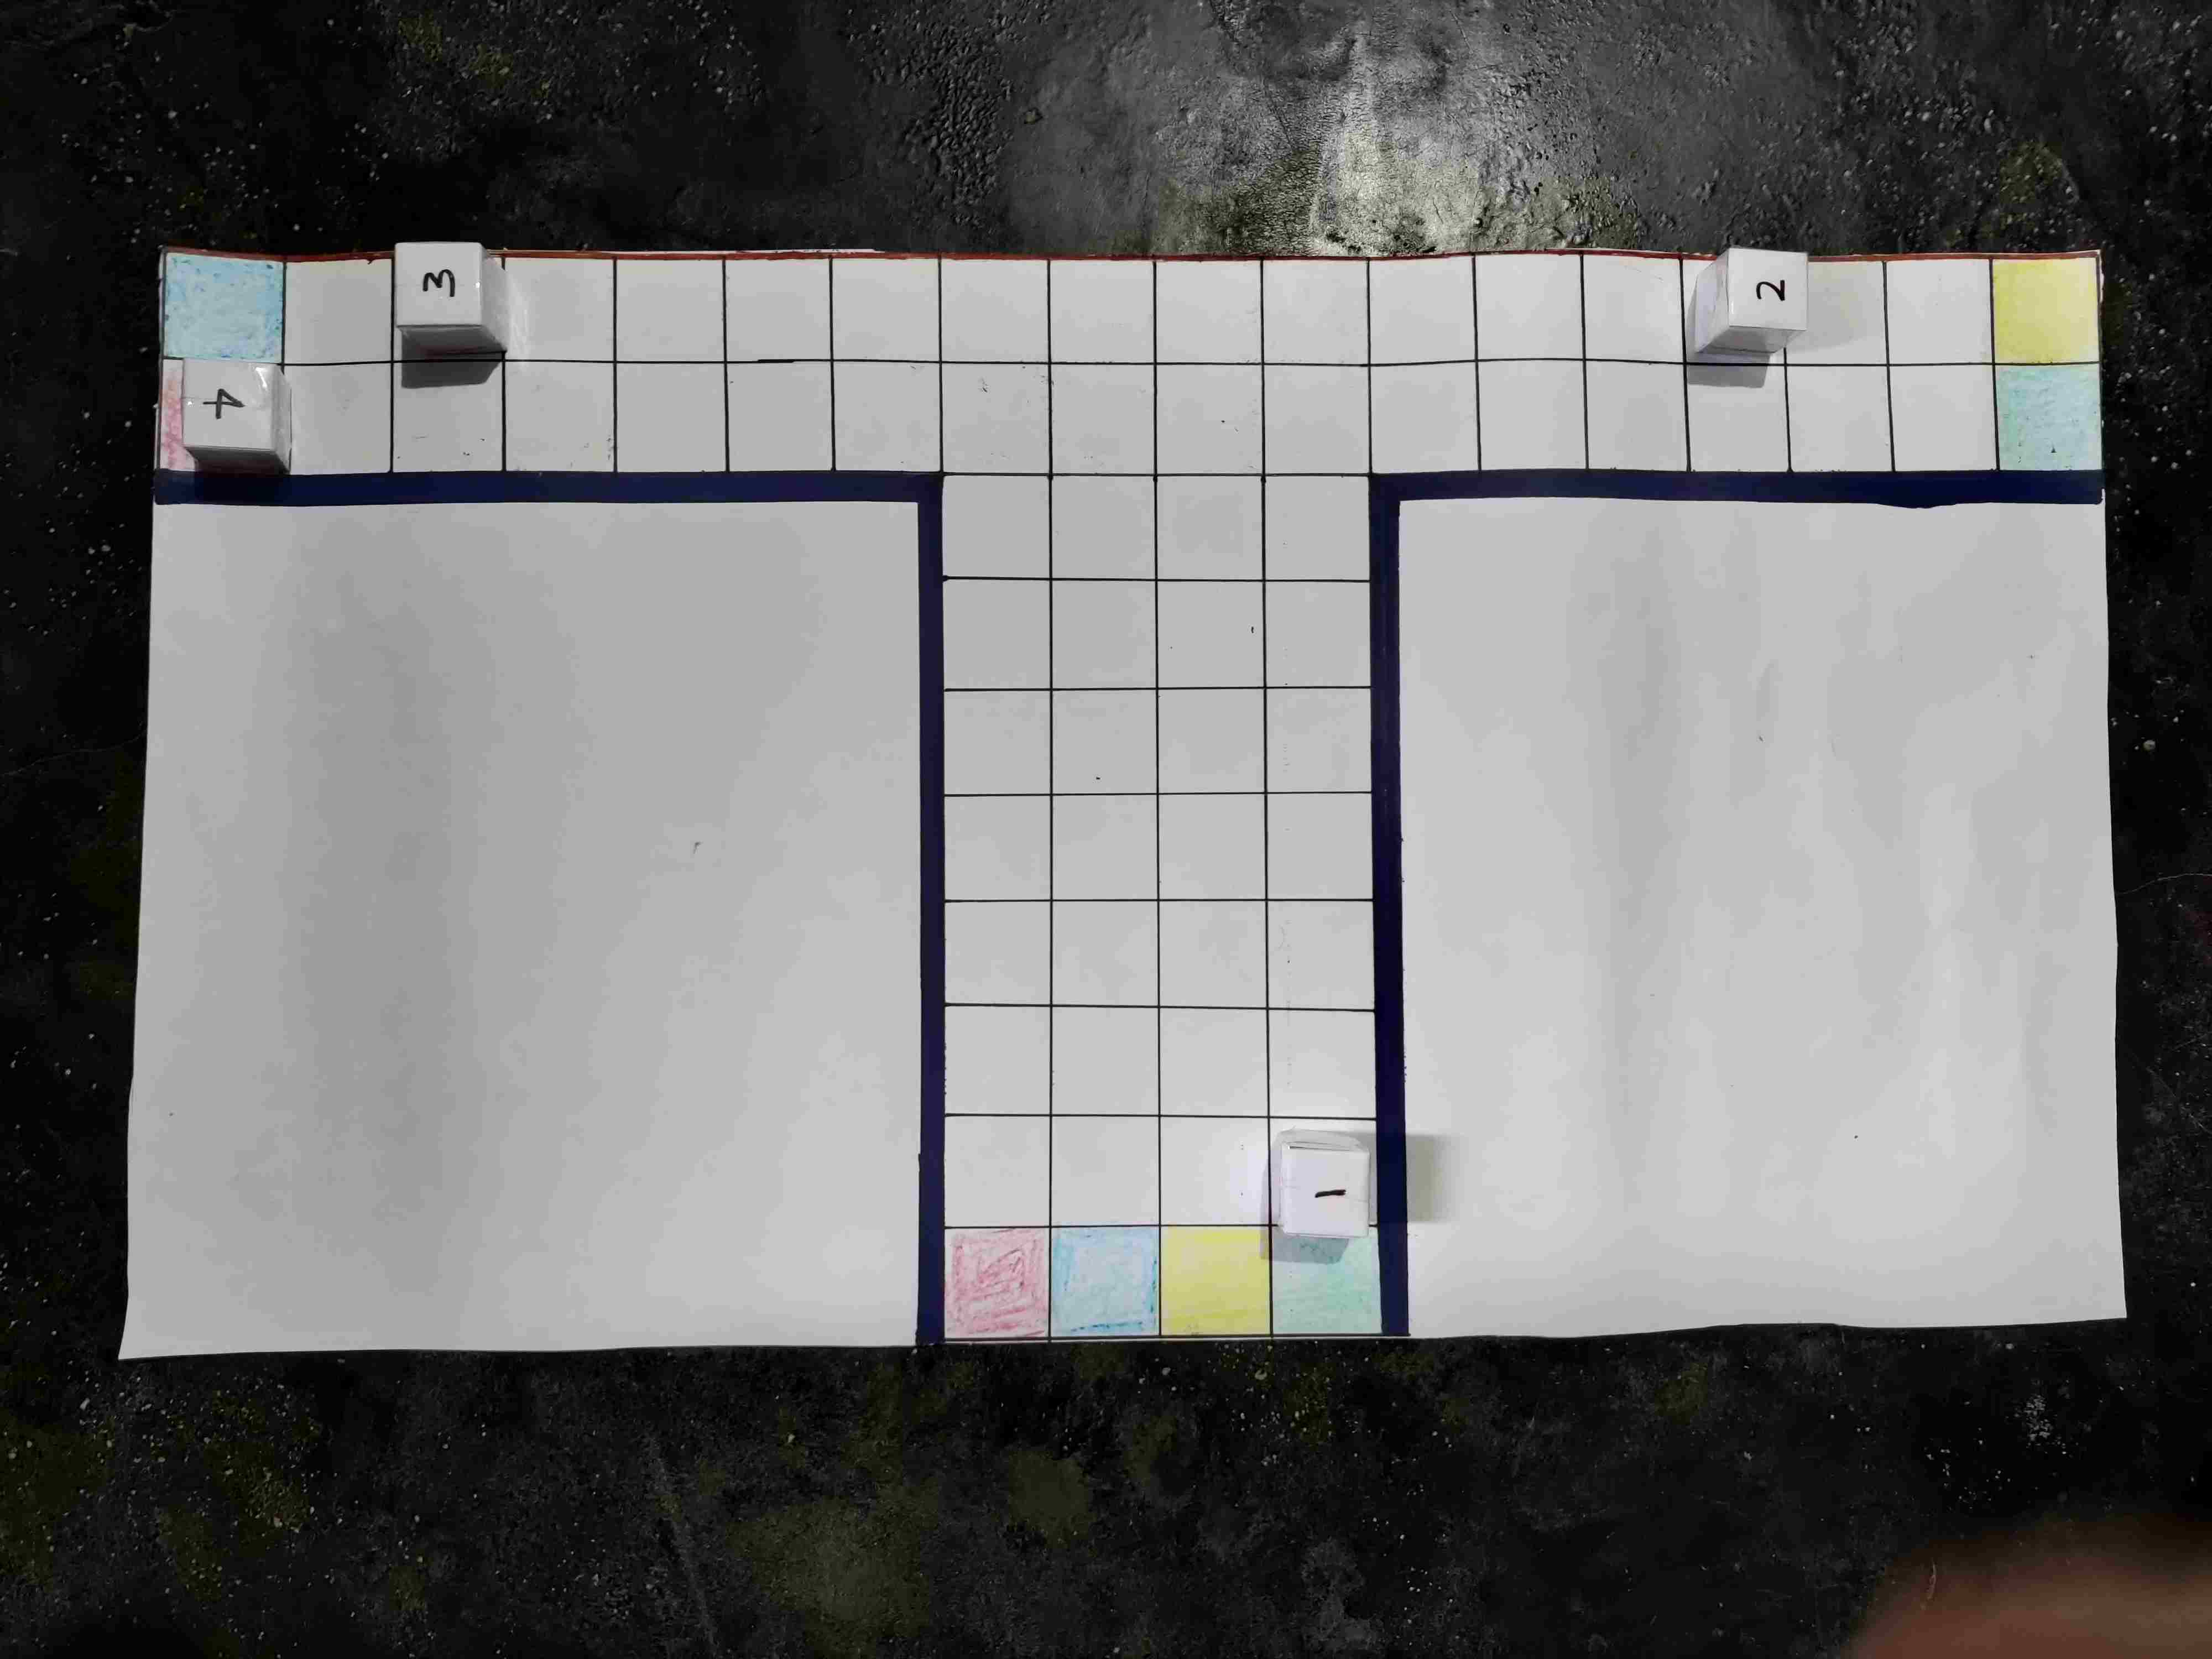arena: (216, 336, 2088, 1377)
bot: (930, 436, 1012, 521), (1054, 558, 1136, 636), (1252, 777, 1332, 856), (1153, 671, 1228, 748)
